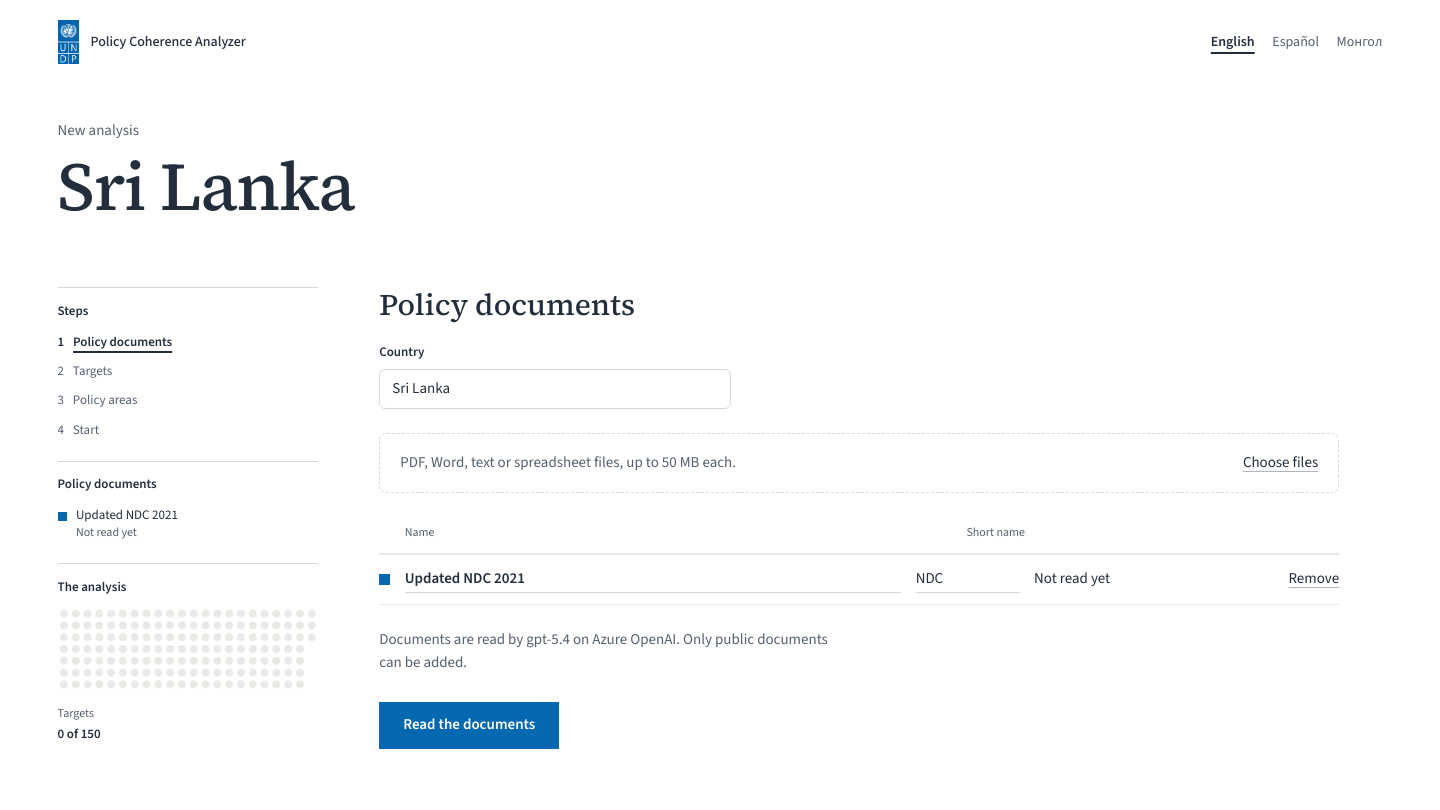
Test: UploadPage › says when the documents could not be read, without an empty file name
The image size is (1440, 810).
Click the button "Read the documents" at (469, 725), box [379,702,559,749]
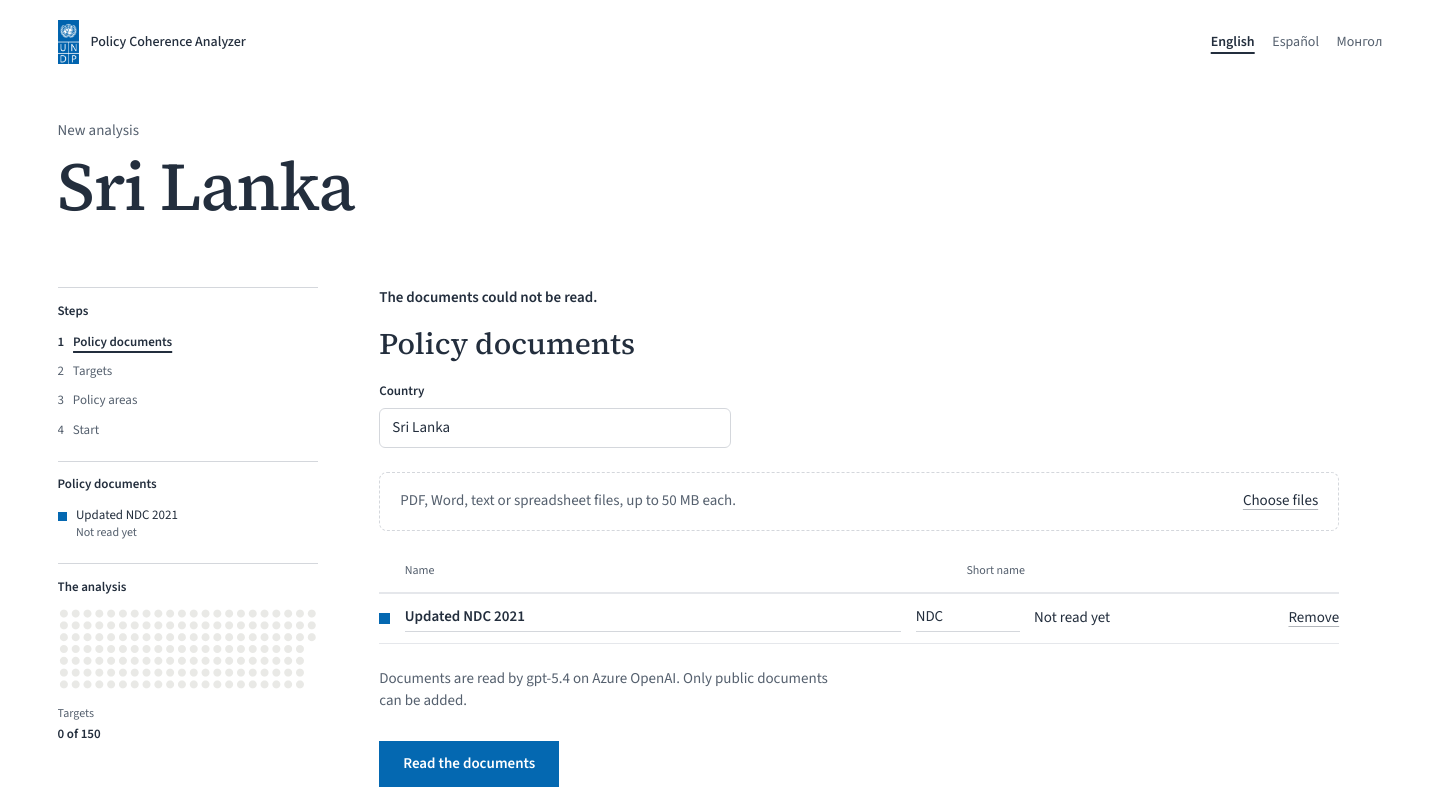
Check: the text "The documents could not be read." is shown, box [379,287,597,308]
